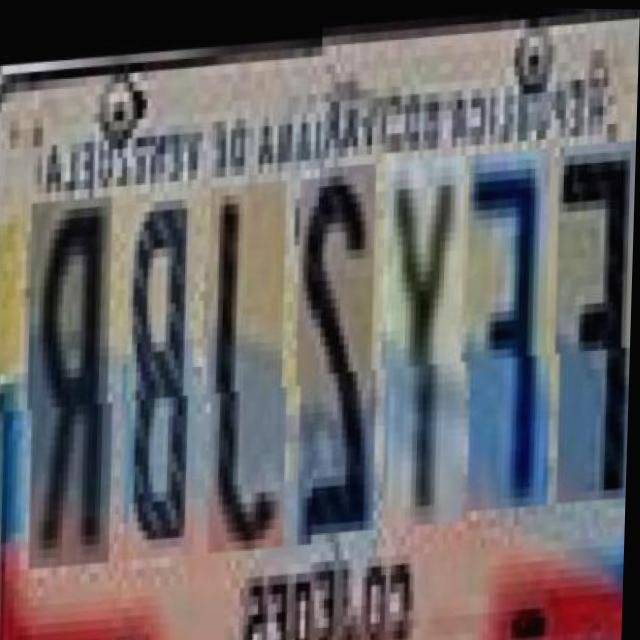2: (293, 164, 380, 538)
b: (119, 177, 201, 550)
f: (463, 152, 553, 517), (552, 146, 637, 510)
j: (204, 170, 289, 545)
r: (25, 182, 115, 557)
y: (378, 158, 468, 533)
